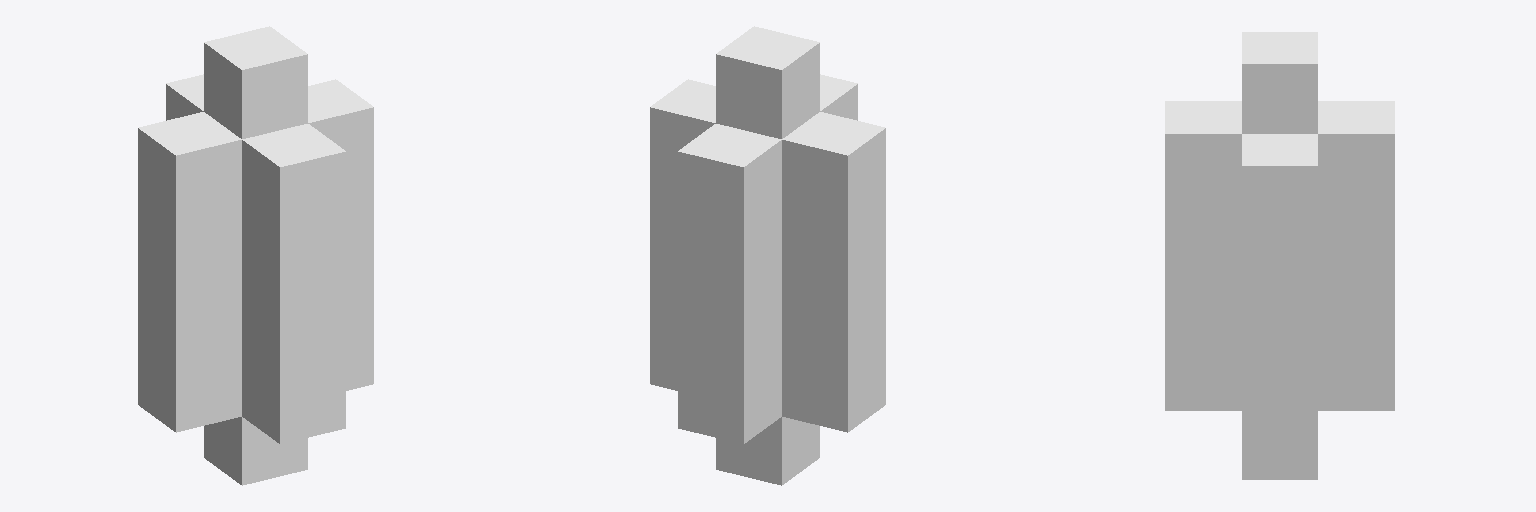
File: Items-3.obj
3 renders of one model, left to right at view 1: azimuth 30°, elevation 25°; view 2: azimuth 150°, elevation 25°; view 3: azimuth 270°, elevation 25°, orthographic.
Parts seen in each view (by area): view 1: object 1; view 2: object 1; view 3: object 1.
Boxes of the visible parts, x1,y1,x2,y2 form: object 1: [138, 26, 373, 485]; object 1: [650, 26, 885, 485]; object 1: [1165, 32, 1394, 479].
Bounding box in the file's own units: 0.3 × 0.6 × 0.3.